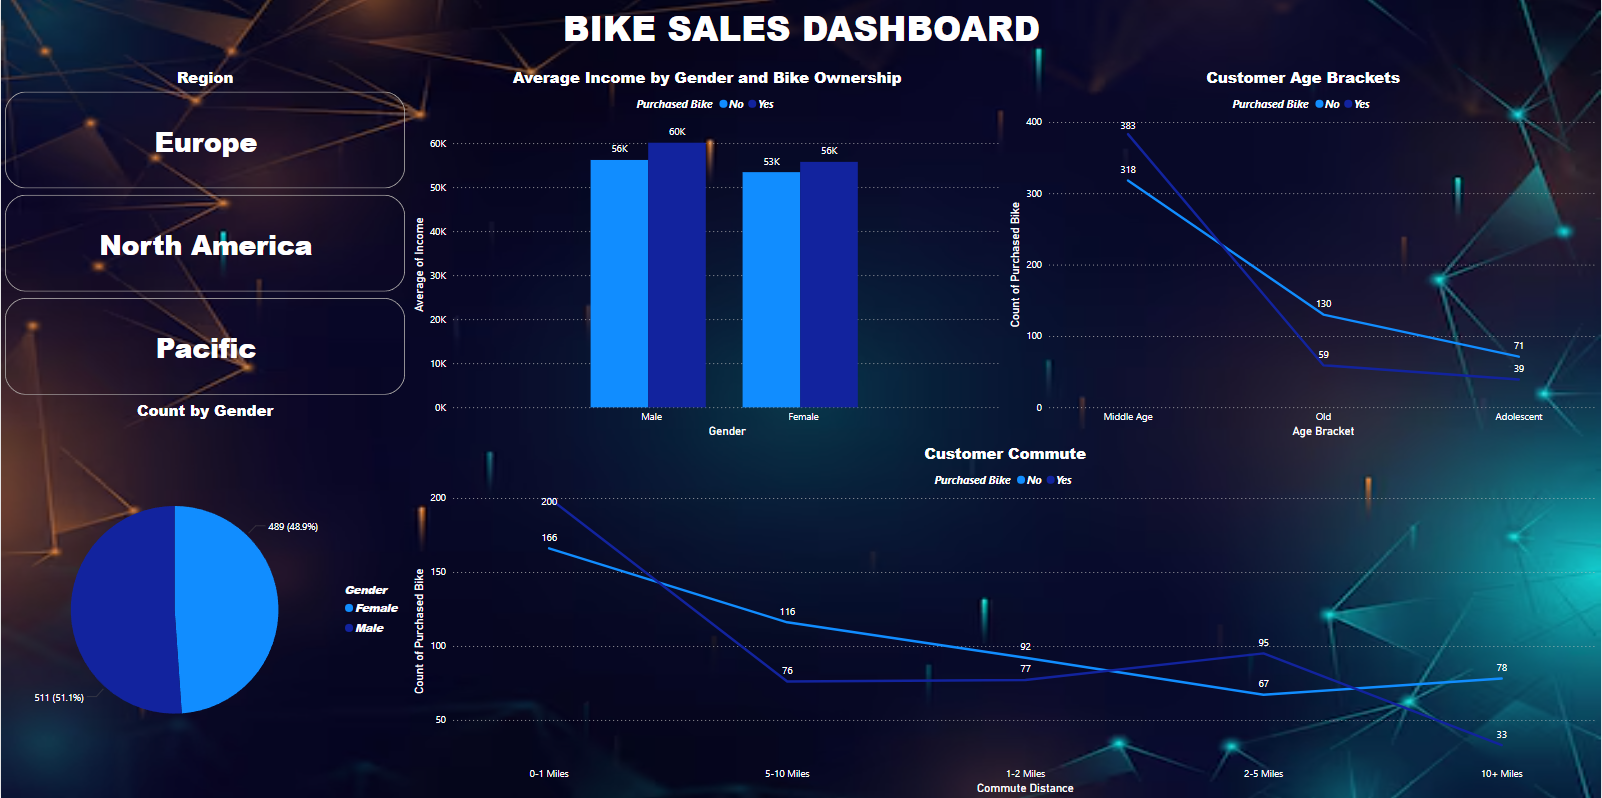

The page's visual inventory and layout, read from the dashboard file:
{"tool":"powerbi","page":{"name":"Page 1","canvas":[2000,1000],"ordinal":0},"visuals":[{"type":"lineChart","title":"Customer Commute","fields":{"Category":["bike_buyers.Commute Distance"],"Y":["CountNonNull(bike_buyers.Purchased Bike)"],"Series":["bike_buyers.Purchased Bike"]},"box":[510,553.8,1490,446.2],"z":0},{"type":"lineChart","title":"Customer Age Brackets","fields":{"Category":["bike_buyers.Age Brackets"],"Y":["CountNonNull(bike_buyers.Purchased Bike)"],"Series":["bike_buyers.Purchased Bike"]},"box":[1255,83.8,745,470],"z":1000},{"type":"textbox","box":[675.7,0,648.6,71.4],"z":2000},{"type":"clusteredColumnChart","title":"Average Income by Gender and Bike Ownership","fields":{"Category":["bike_buyers.Gender"],"Series":["bike_buyers.Purchased Bike"],"Y":["Avg(bike_buyers.Income)"]},"box":[510,83.8,745,470],"z":3000},{"type":"advancedSlicerVisual","fields":{"Values":["bike_buyers.Region"]},"box":[0,83.3,510,416.7],"z":4000},{"type":"pieChart","fields":{"Y":["CountNonNull(bike_buyers.Gender)"],"Series":["bike_buyers.Gender"]},"box":[0,500,510,500],"z":5002}]}

Visuals, with their boxes in screenshot pixels (x1, y1, x2, y2), scaled from the page's 2000x1000 canvas onto the 1602x798 screenshot:
"Customer Commute" lineChart: {"left": 409, "top": 442, "right": 1601, "bottom": 797}
"Customer Age Brackets" lineChart: {"left": 1005, "top": 67, "right": 1601, "bottom": 442}
textbox: {"left": 541, "top": 0, "right": 1061, "bottom": 57}
"Average Income by Gender and Bike Ownership" clusteredColumnChart: {"left": 409, "top": 67, "right": 1005, "bottom": 442}
advancedSlicerVisual - bike_buyers.Region: {"left": 0, "top": 66, "right": 409, "bottom": 399}
pieChart - CountNonNull(bike_buyers.Gender) x bike_buyers.Gender: {"left": 0, "top": 399, "right": 409, "bottom": 797}
